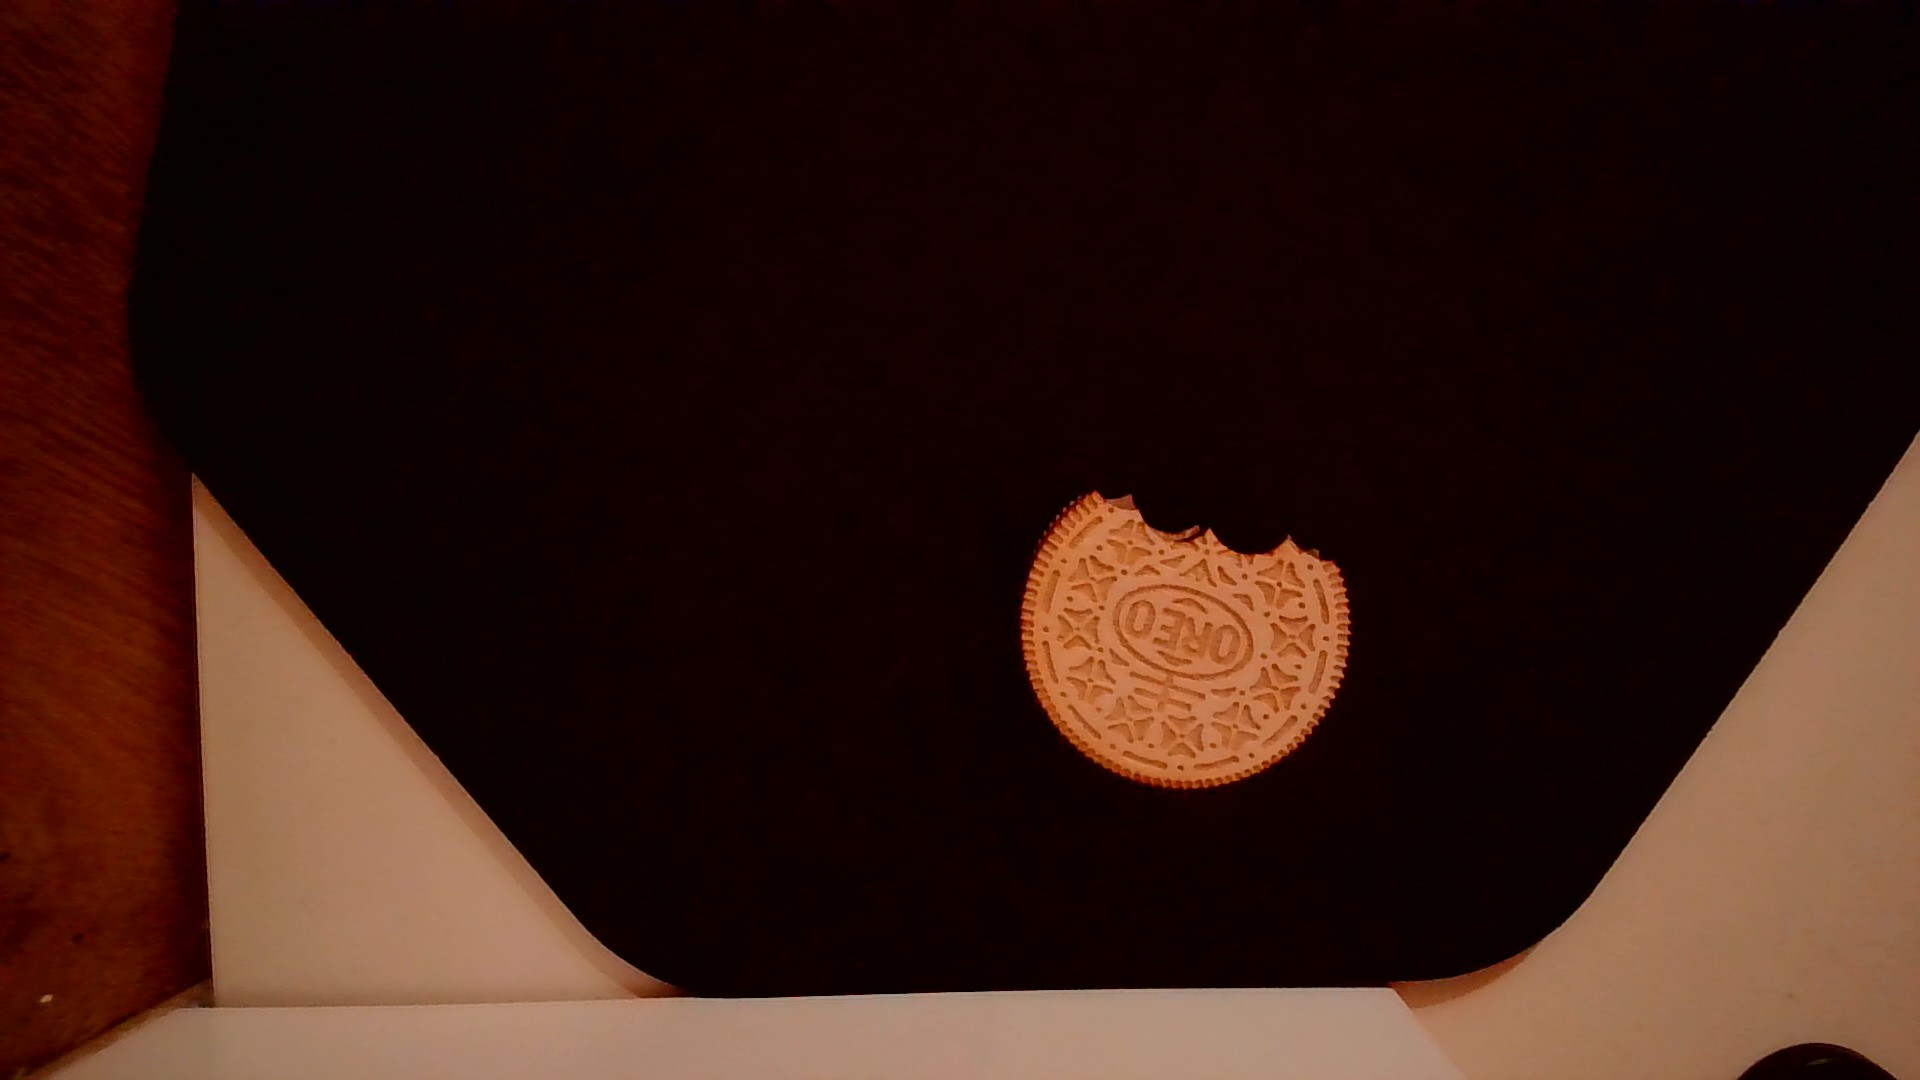Mangé: (1079, 479, 1332, 568)
Oréo: (1009, 471, 1357, 808)
